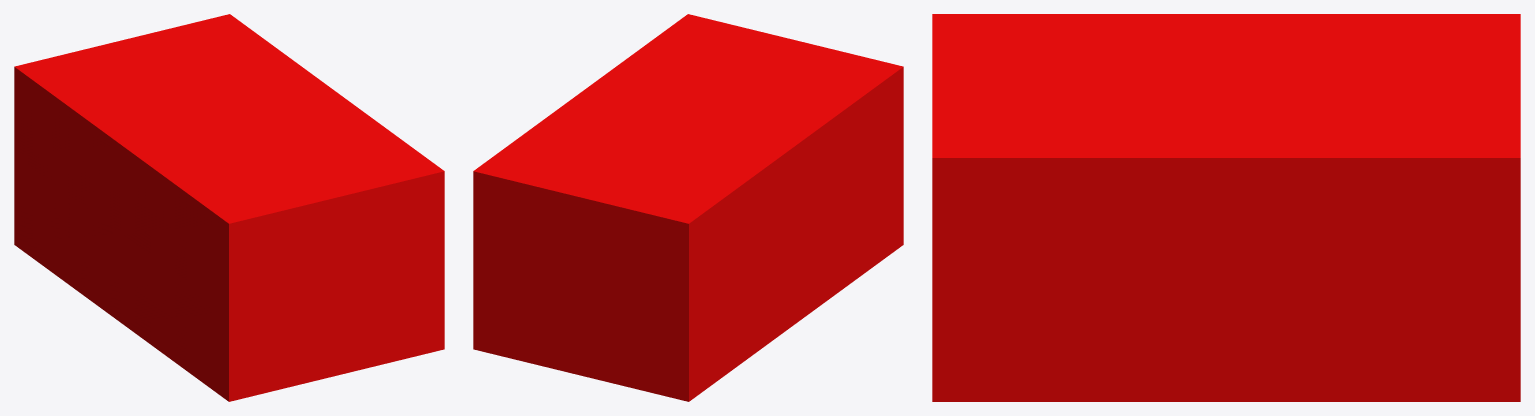
Rendered from thumb_proximal_rvs_col.dae.
3 renders of one model, left to right at view 1: azimuth 30°, elevation 25°; view 2: azimuth 150°, elevation 25°; view 3: azimuth 270°, elevation 25°, orthographic. The views are drawn at different scales.
Visible parts, largest first — view 1: node0; view 2: node0; view 3: node0.
Part boxes in pixels (x1,y1,x2,y2): node0: (14,14,444,401); node0: (473,14,903,401); node0: (932,14,1520,401).
Size of the model in its own units: 0.0181 by 0.0143 by 0.0312.
